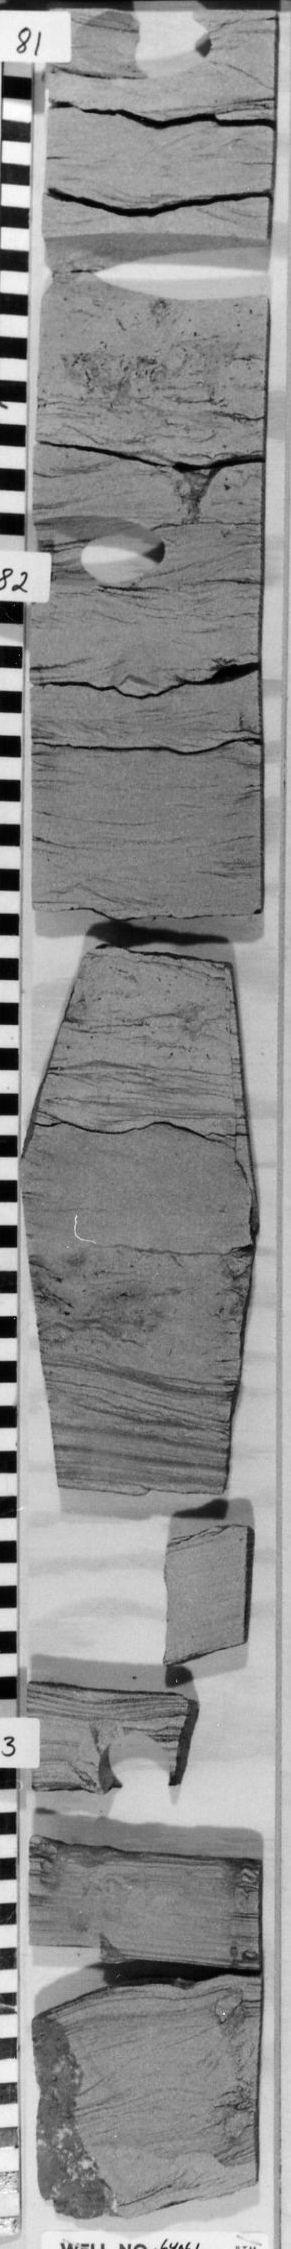hplug: (37, 511, 173, 591), (72, 11, 218, 82), (92, 1727, 172, 1790)
scal: (44, 224, 267, 321)
